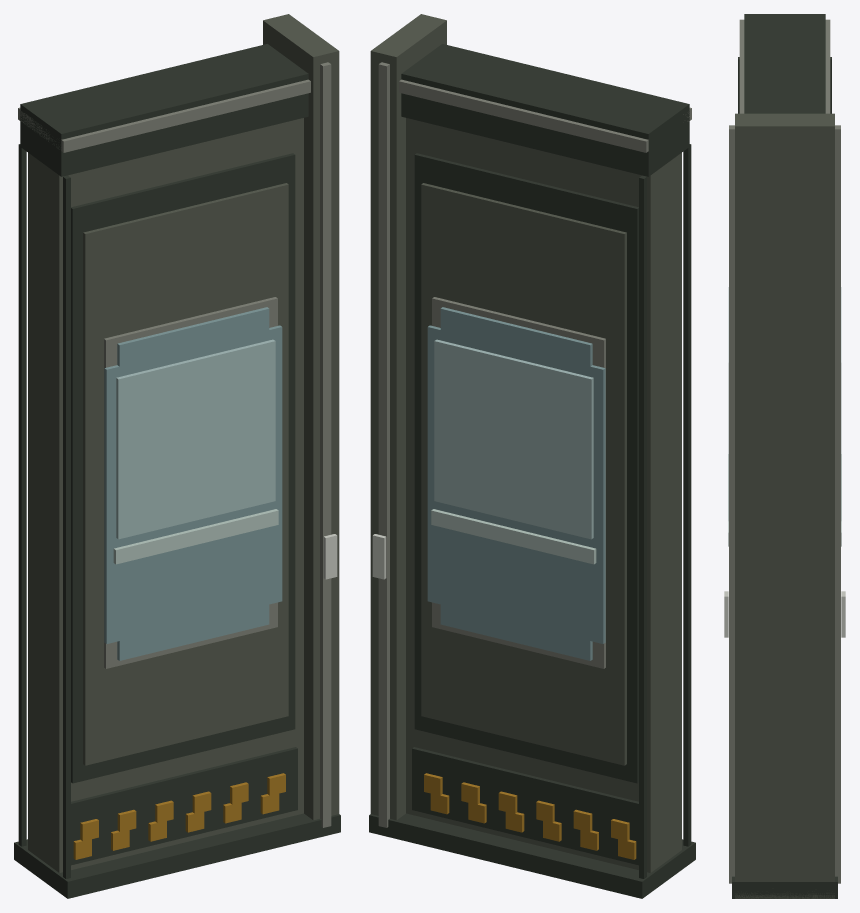
The model's file is CMU3DHybrisaDoubleGlassDoor.glb.
3 renders of one model, left to right at view 1: azimuth 30°, elevation 25°; view 2: azimuth 150°, elevation 25°; view 3: azimuth 270°, elevation 25°, orthographic.
Parts seen in each view (by area): view 1: inner face panel, single closed door leaf, pale upper reflection, chamfered window center, outer door jamb, leaf recessed face, continuous top track, meeting edge seal (×2), lower hazard band, outer jamb highlight, threshold, top track lip (+5 smaller); view 2: inner face panel back, single closed door leaf, pale upper reflection back, chamfered window center back, outer door jamb, leaf recessed face back, continuous top track, meeting edge seal (×2), lower hazard band back, outer jamb highlight, threshold, chamfered window upper shoulder back (+5 smaller); view 3: outer door jamb, outer jamb highlight (×2), continuous top track, threshold, top track lip.
Part boxes in pixels (x1=…): inner face panel: x1=83, y1=183, x2=288, y2=765; single closed door leaf: x1=28, y1=118, x2=303, y2=872; pale upper reflection: x1=116, y1=339, x2=275, y2=539; chamfered window center: x1=104, y1=325, x2=282, y2=643; outer door jamb: x1=263, y1=14, x2=339, y2=820; leaf recessed face: x1=71, y1=153, x2=295, y2=783; continuous top track: x1=20, y1=44, x2=308, y2=176; meeting edge seal (×2): x1=18, y1=144, x2=70, y2=878; lower hazard band: x1=71, y1=747, x2=297, y2=865; outer jamb highlight: x1=320, y1=62, x2=331, y2=827; threshold: x1=14, y1=813, x2=340, y2=898; top track lip: x1=18, y1=79, x2=310, y2=152; inner face panel back: x1=421, y1=183, x2=626, y2=765; single closed door leaf: x1=406, y1=118, x2=681, y2=872; pale upper reflection back: x1=434, y1=339, x2=593, y2=539; chamfered window center back: x1=427, y1=325, x2=605, y2=643; outer door jamb: x1=370, y1=14, x2=446, y2=820; leaf recessed face back: x1=414, y1=153, x2=638, y2=783; continuous top track: x1=401, y1=44, x2=689, y2=176; meeting edge seal (×2): x1=639, y1=144, x2=691, y2=878; lower hazard band back: x1=412, y1=747, x2=638, y2=865; outer jamb highlight: x1=378, y1=62, x2=389, y2=827; threshold: x1=369, y1=813, x2=695, y2=898; chamfered window upper shoulder back: x1=440, y1=307, x2=592, y2=366; outer door jamb: x1=735, y1=113, x2=834, y2=898; outer jamb highlight (×2): x1=729, y1=125, x2=840, y2=883; continuous top track: x1=744, y1=14, x2=825, y2=113; threshold: x1=732, y1=876, x2=837, y2=898; top track lip: x1=739, y1=19, x2=830, y2=113.
Bounding box in the file's own units: 1 × 2.73 × 0.388.
